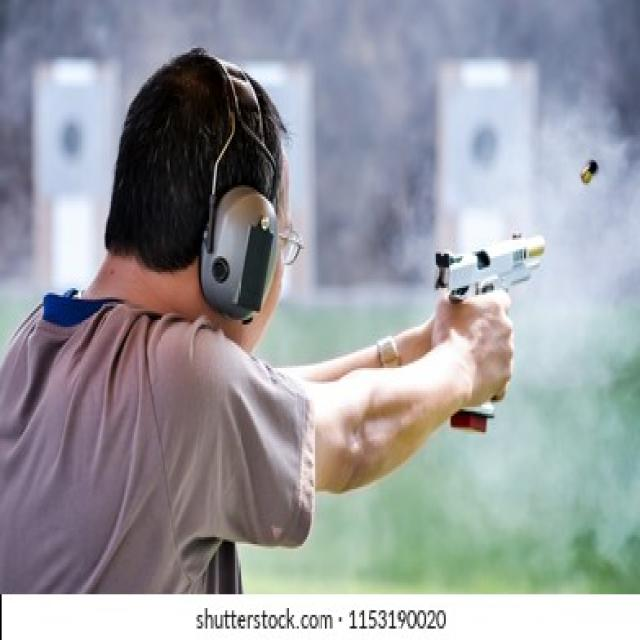handgun: (438, 240, 567, 433)
